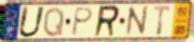N: (125, 5, 149, 38)
P: (70, 7, 95, 37)
Q: (42, 6, 66, 38)
R: (93, 5, 122, 39)
T: (152, 5, 172, 37)
U: (16, 5, 47, 39)
